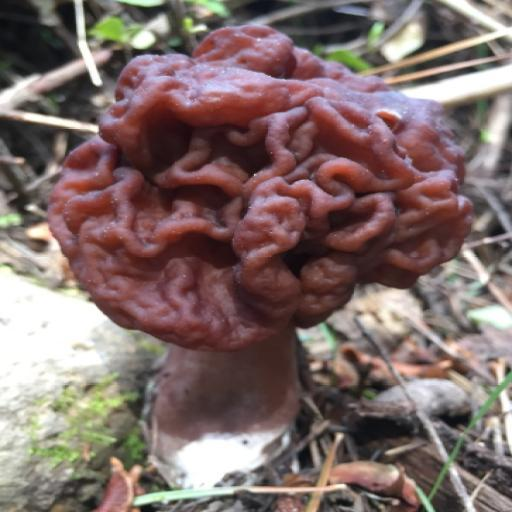mushroom: (49, 22, 477, 426)
